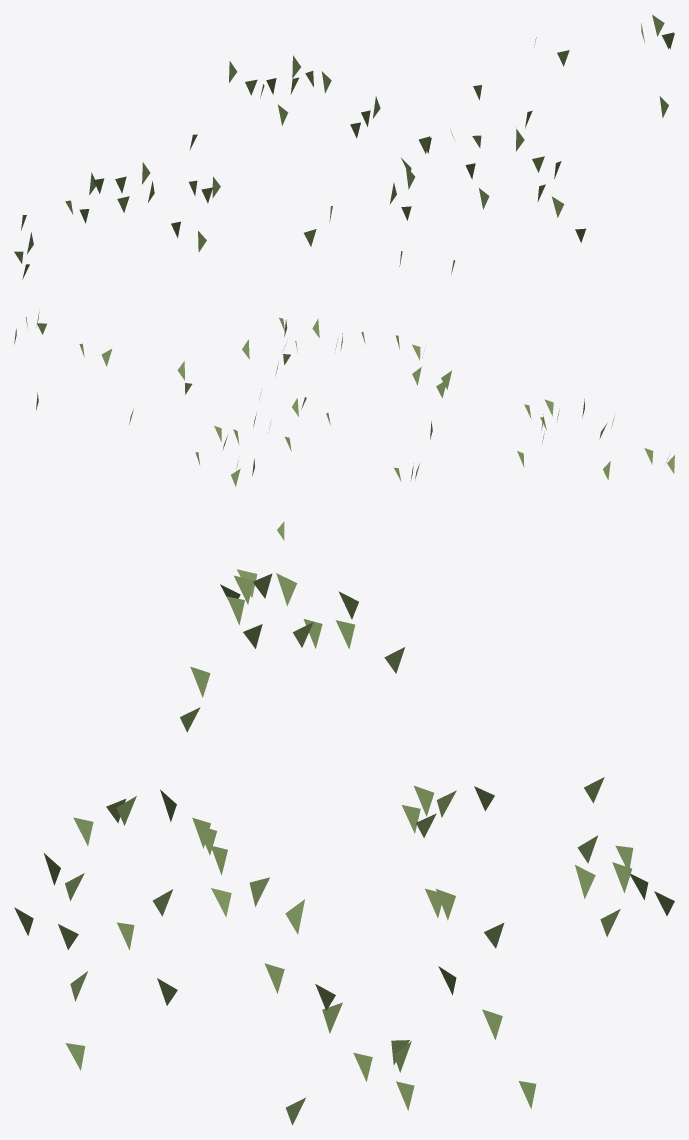
Rendered from teaching3-vegetation-01-far.glb.
3 views of the same model, one above another, from view 1: azimuth 30°, elevation 25°; view 2: azimuth 150°, elevation 25°; view 3: azimuth 270°, elevation 25° (orthographic). The views are drawn at different scales.
Parts seen in each view (by area): view 1: shrubs.001; view 2: shrubs.001; view 3: shrubs.001.
Part boxes in pixels (<box>): shrubs.001: <box>14,14,674,279</box>; shrubs.001: <box>14,312,674,540</box>; shrubs.001: <box>14,569,674,1125</box>.
Size of the model in its own units: 10.37 by 1.61 by 5.47.
